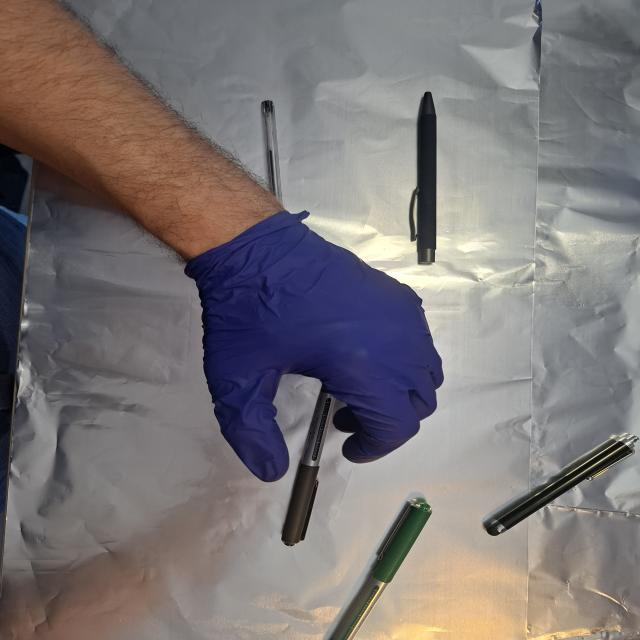glove_on: (188, 210, 449, 485)
